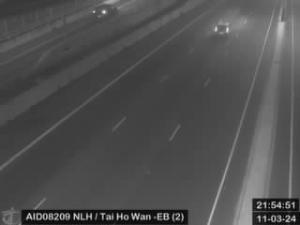vehicle: (94, 3, 116, 19), (214, 20, 232, 36)
